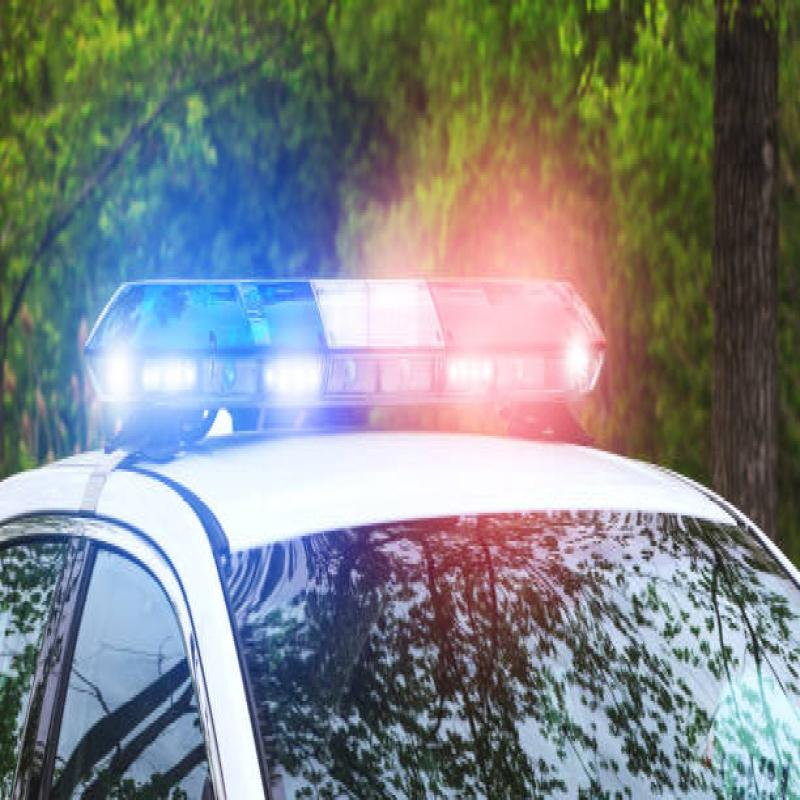AmbulanceSiren: (80, 210, 632, 462)
